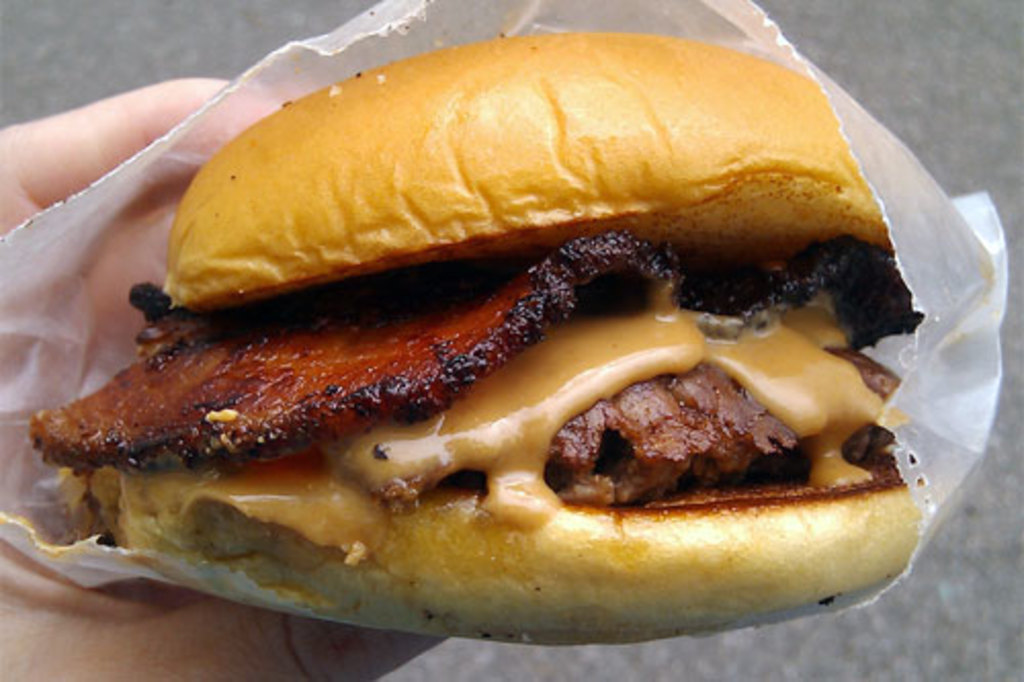Hamburger: (32, 28, 927, 641)
